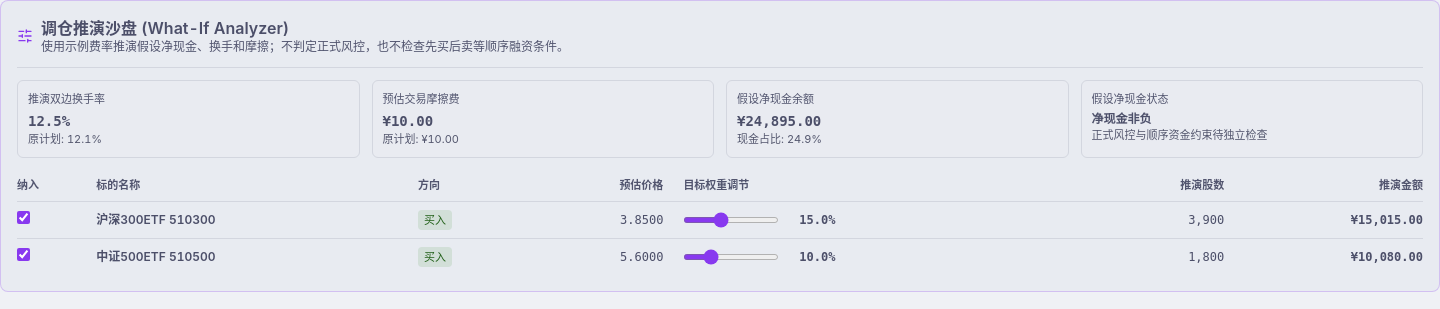
Test: TradingPlanWhatIfSandbox › updates simulated values when toggling candidates and allows resetting
// Toggle off second candidate
Click the checkbox named "纳入推演: 510500".
click(24, 255)  # box [17,248,30,261]
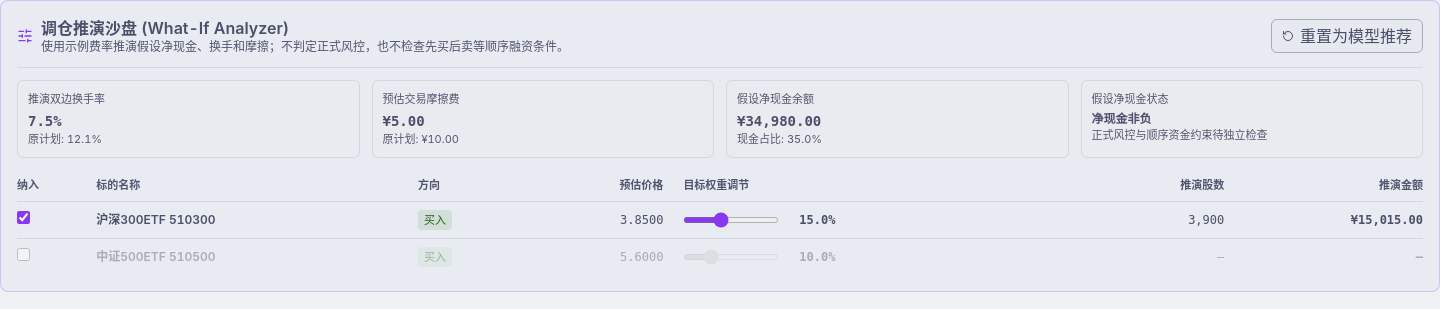
Check: the text "重置为模型推荐" is shown, box [1300,24,1412,48]
// Click reset
Click the button "重置为模型推荐".
click(1347, 36)  # box [1271,19,1423,53]
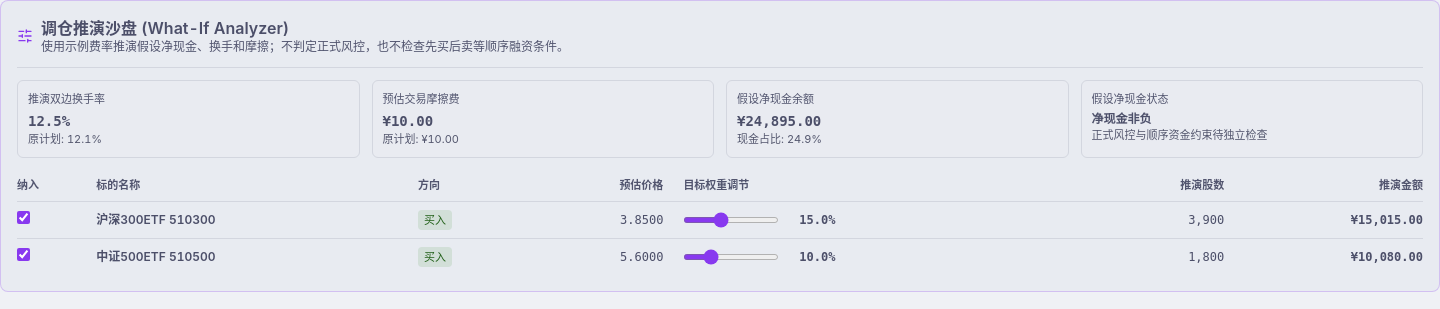
Check: the button "重置为模型推荐" is gone
